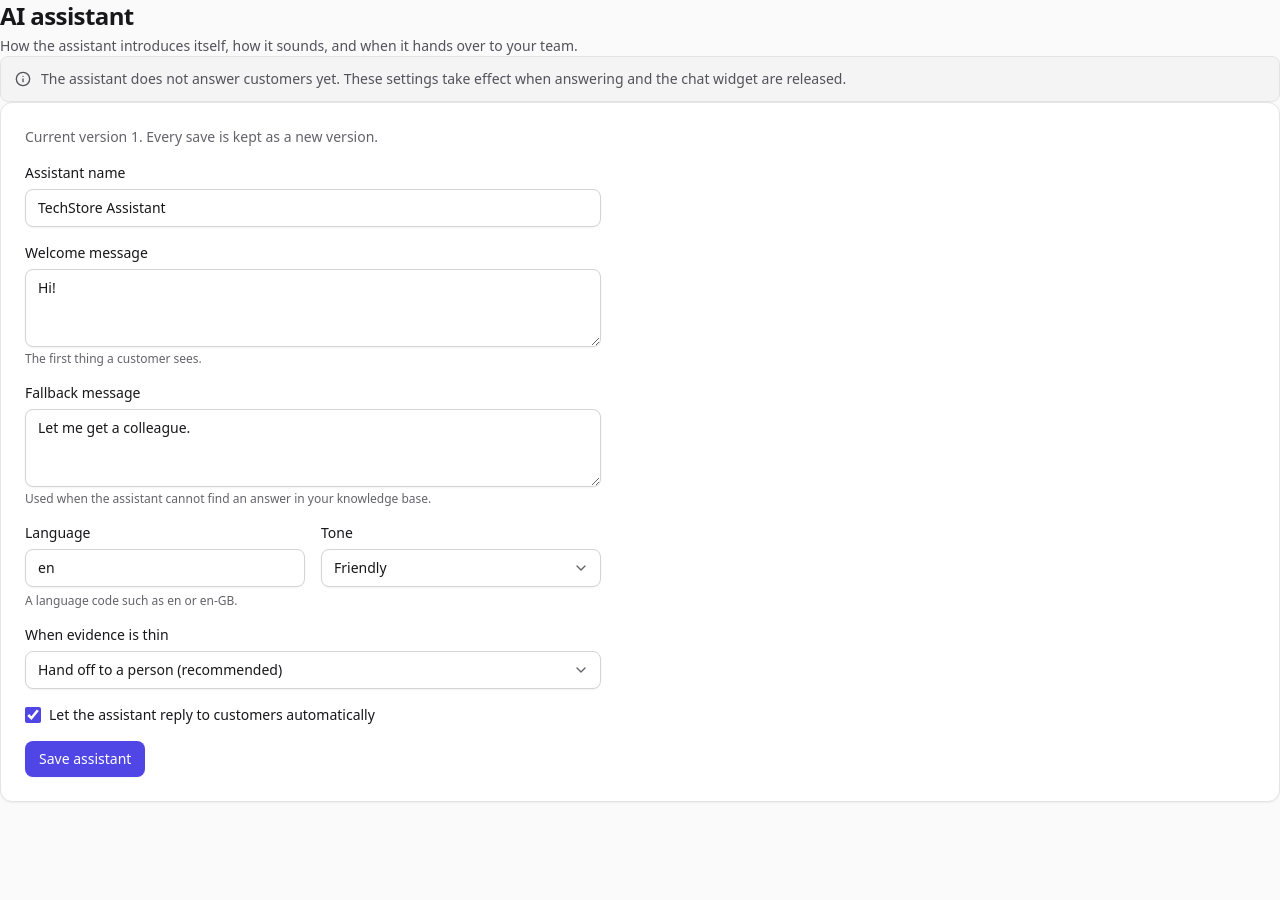
Test: assistant page › saves the whole configuration and reports the new version
Select "Professional" in the dropdown labelled "Tone": (461, 568) [321,549,601,587]
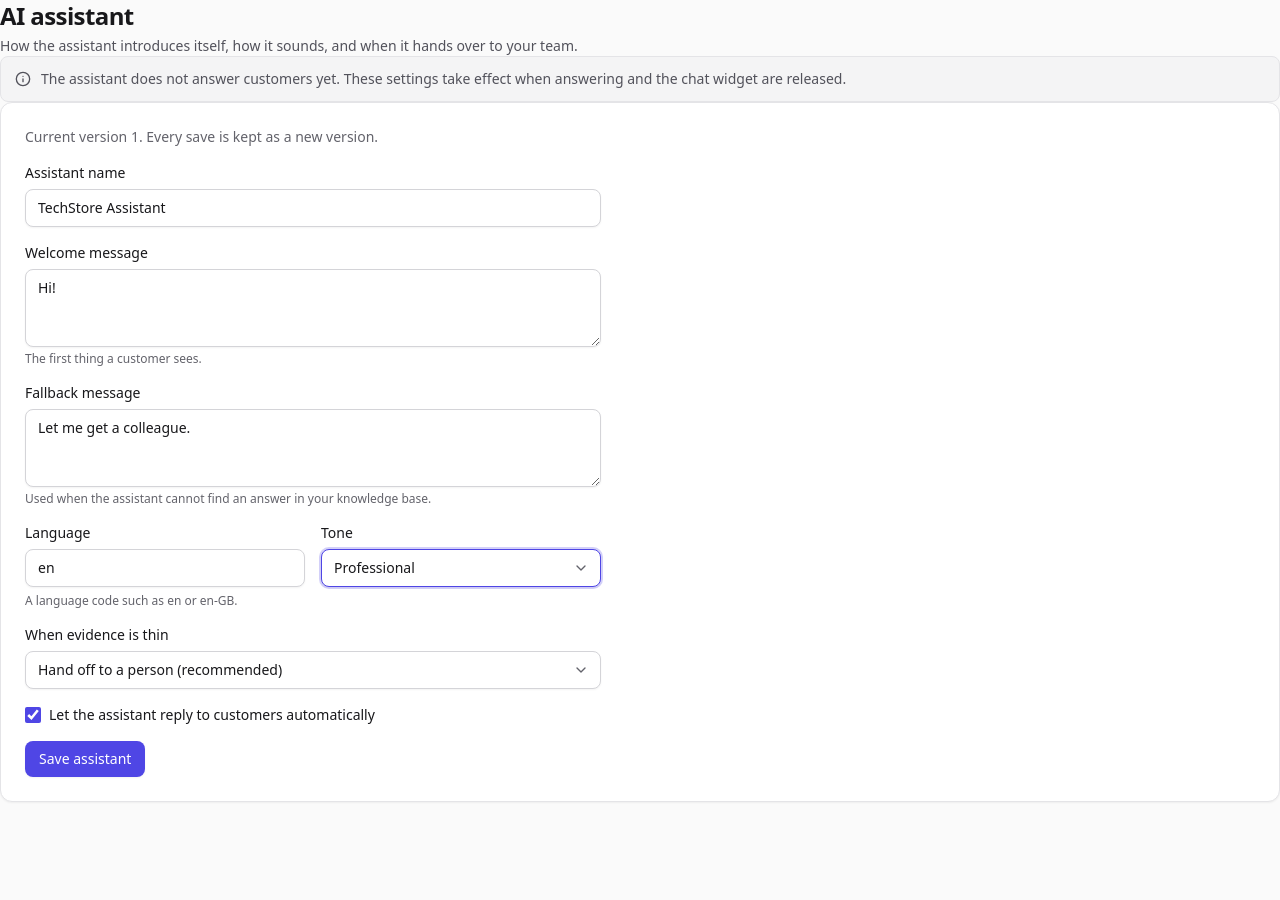
Click the button "Save assistant": click(85, 759) [25,741,145,777]
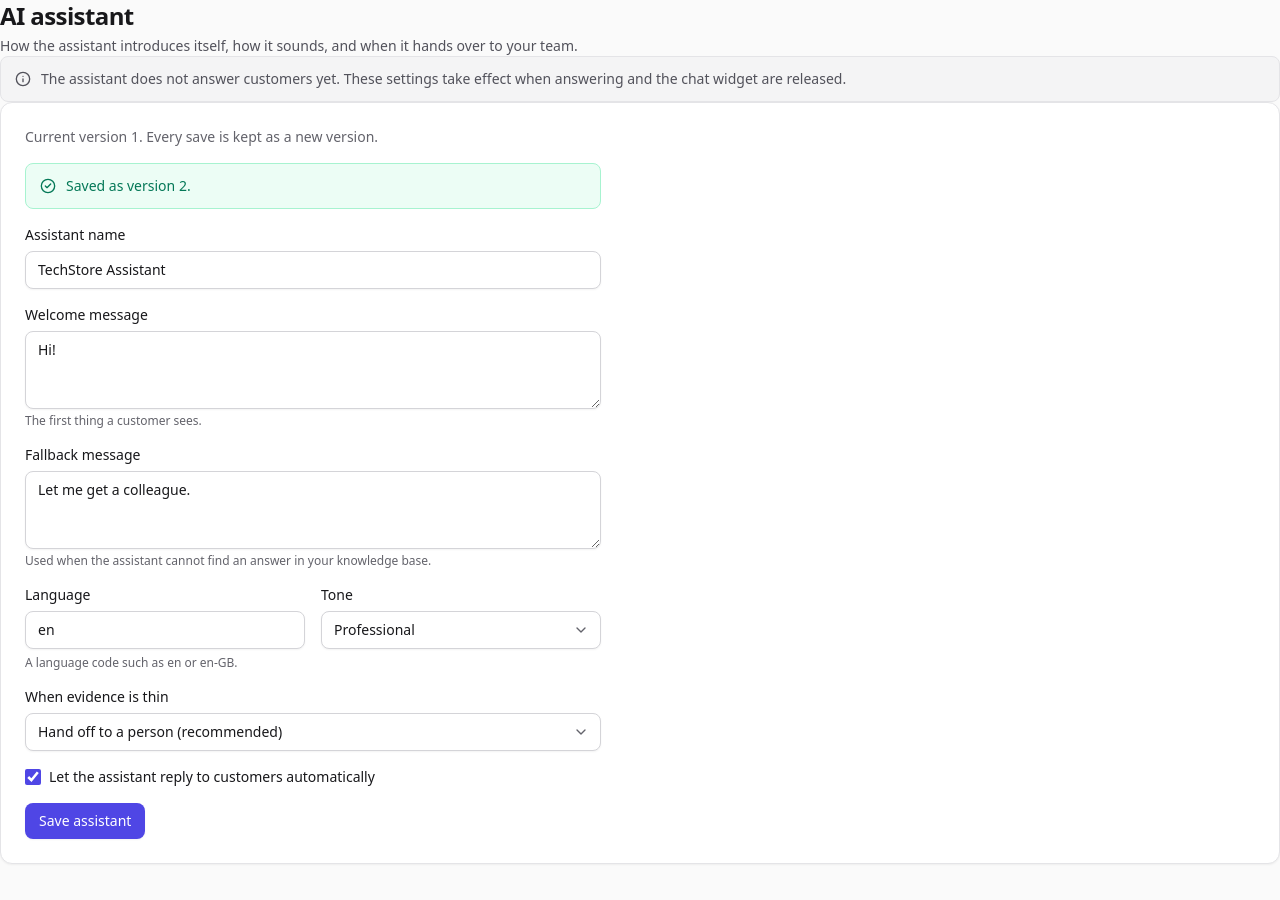
Now the text "Saved as version 2." is shown, box [66,176,191,195]
